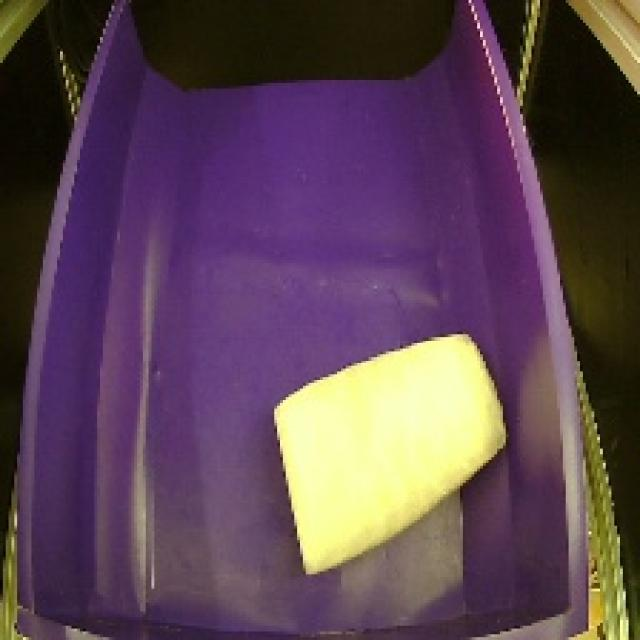white_radish: (266, 320, 528, 578)
